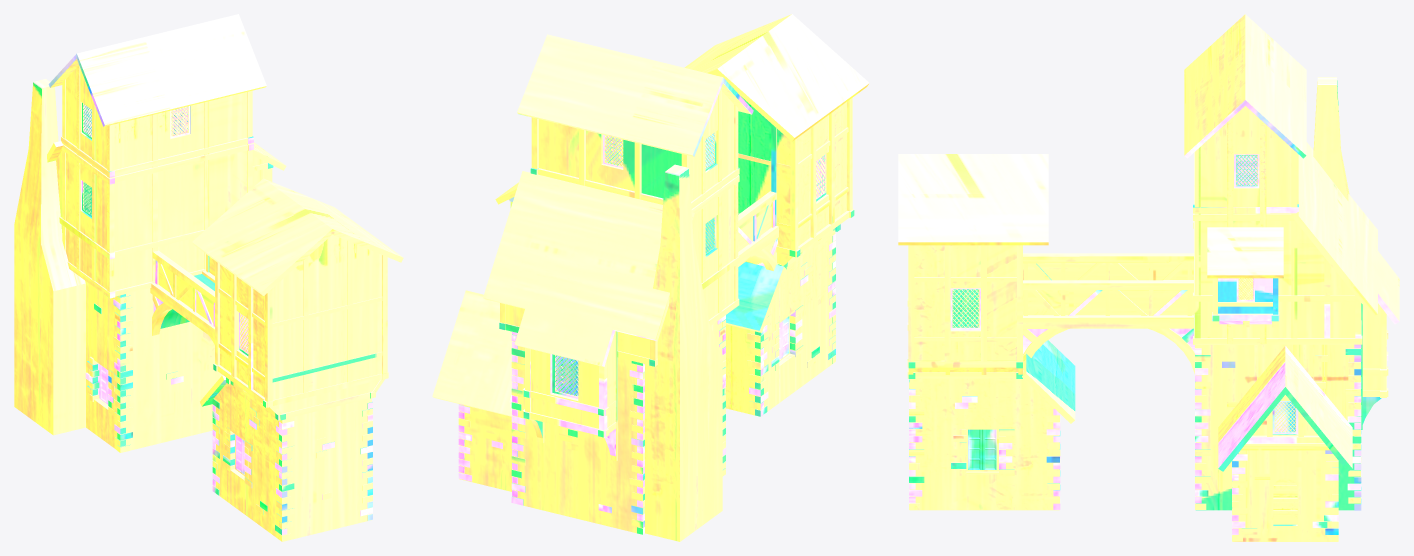
File: medieval houses 3.fbx
3 renders of one model, left to right at view 1: azimuth 30°, elevation 25°; view 2: azimuth 150°, elevation 25°; view 3: azimuth 270°, elevation 25°, orthographic. The views are drawn at different scales.
Visible parts, largest first — view 1: Object_4; view 2: Object_4; view 3: Object_4.
Part boxes in pixels (<box>): Object_4: <box>14,14,403,541</box>; Object_4: <box>432,14,869,541</box>; Object_4: <box>898,14,1399,541</box>.
Size of the model in its own units: 645 by 1038 by 1119.
